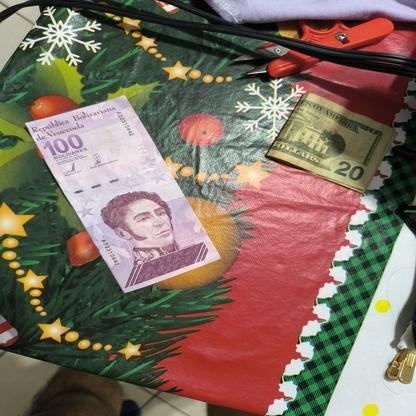one_hundred-front-vef: (24, 94, 220, 294)
